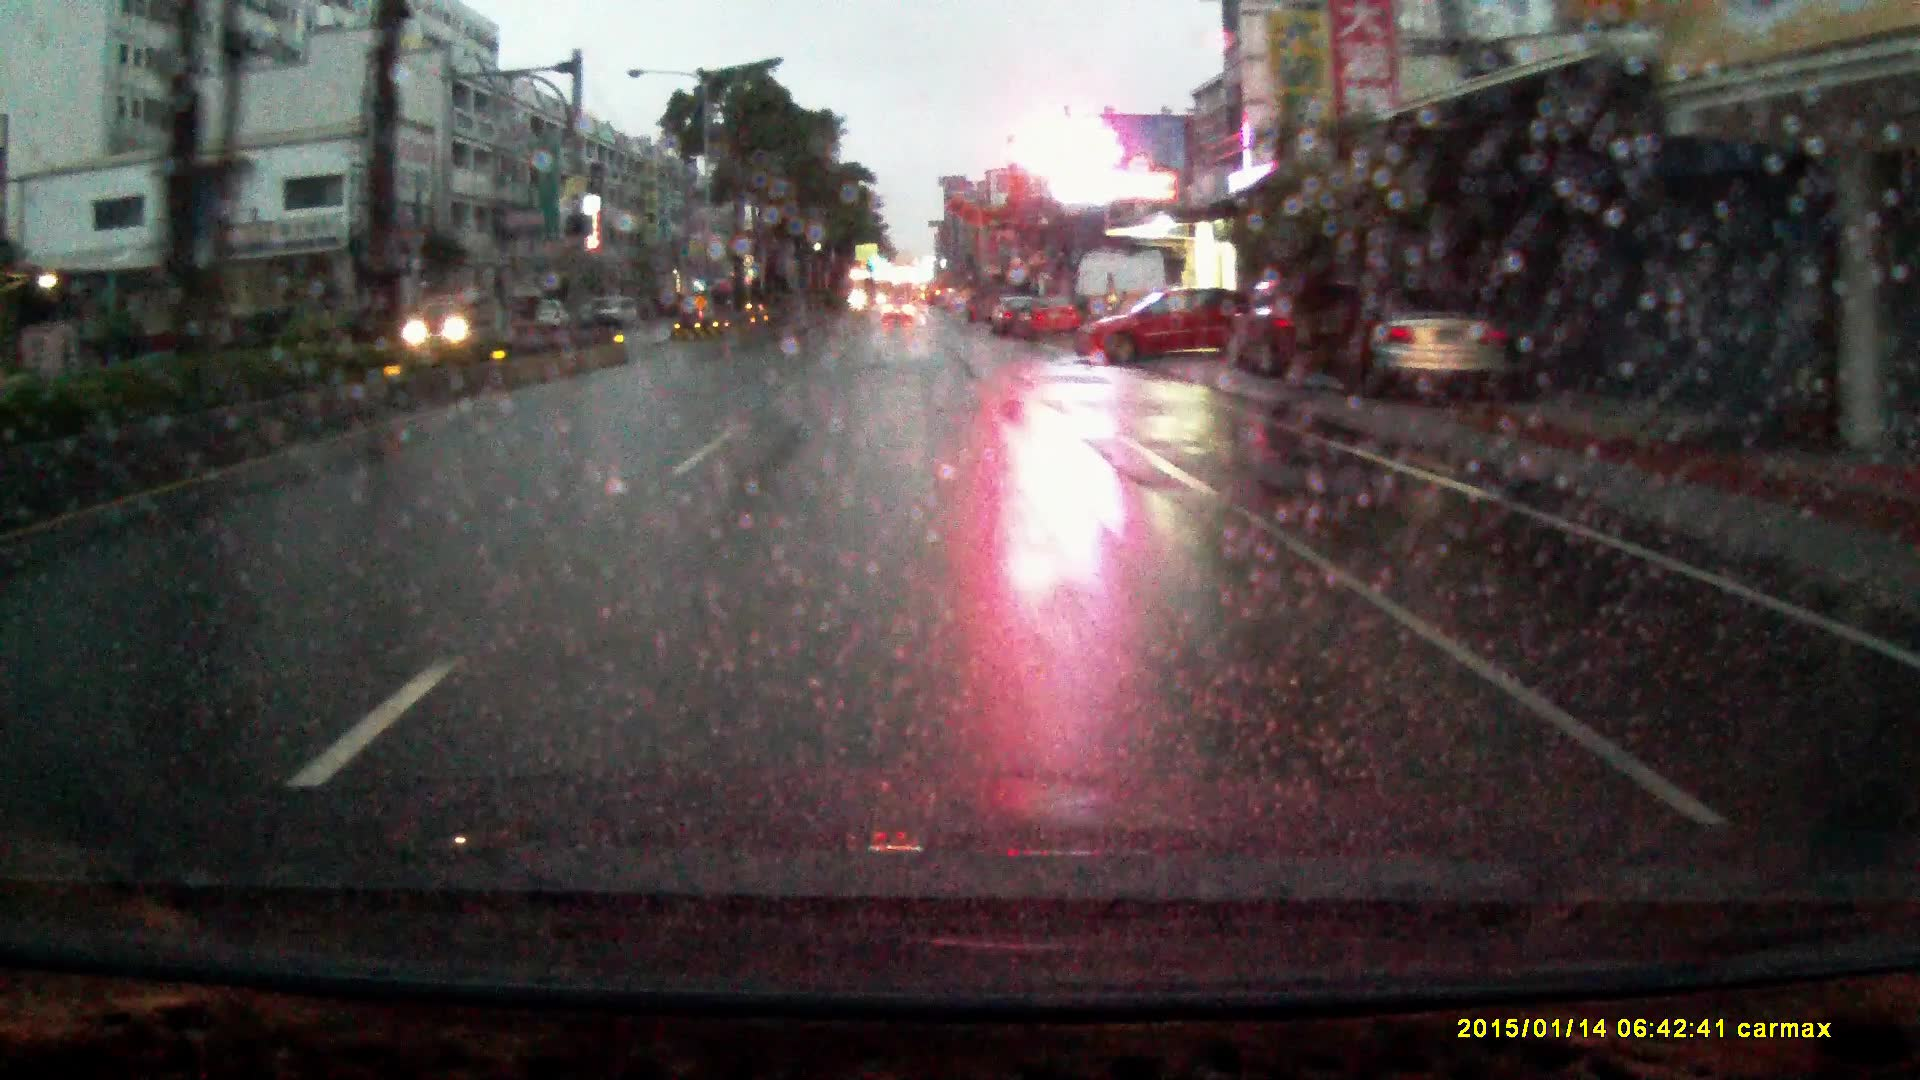vehicle: (1338, 293, 1510, 407), (1224, 276, 1375, 388), (1069, 286, 1241, 367), (402, 295, 500, 351), (1014, 295, 1080, 344), (990, 298, 1039, 343), (599, 299, 640, 334), (884, 298, 916, 326)
